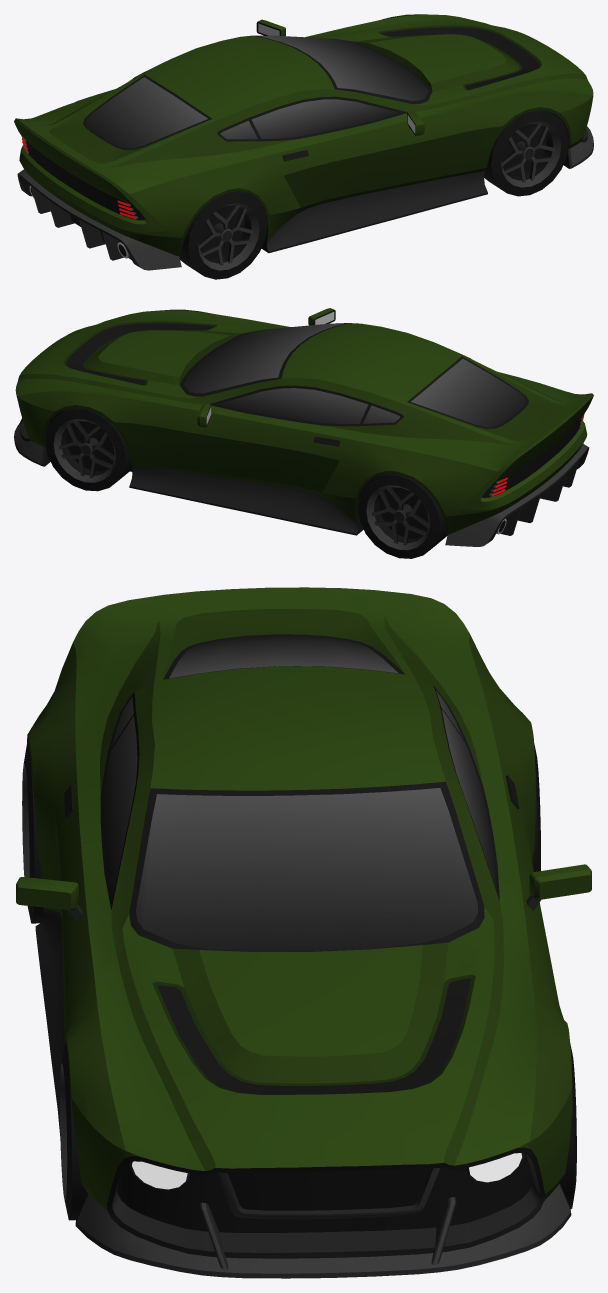
Rendered from Car_091.glb.
3 views of the same model, one above another, from view 1: azimuth 30°, elevation 25°; view 2: azimuth 150°, elevation 25°; view 3: azimuth 270°, elevation 25° (orthographic). The views are drawn at different scales.
Visible parts, largest first — view 1: Car_091, wheel_2_Car_091_Wheel_2R, wheel_1_Car_091_Wheel_1R; view 2: Car_091, wheel_3_Car_091_Wheel_3L, wheel_0_Car_091_Wheel_1L; view 3: Car_091, wheel_1_Car_091_Wheel_1R, wheel_2_Car_091_Wheel_2R, wheel_0_Car_091_Wheel_1L.
Part boxes in pixels (x1,y1,x2,y2): Car_091: (14,14,593,270); wheel_2_Car_091_Wheel_2R: (179,191,267,279); wheel_1_Car_091_Wheel_1R: (484,110,568,196); Car_091: (14,308,593,546); wheel_3_Car_091_Wheel_3L: (358,473,447,558); wheel_0_Car_091_Wheel_1L: (45,408,132,491); Car_091: (16,587,591,1278); wheel_1_Car_091_Wheel_1R: (60,1043,87,1220); wheel_2_Car_091_Wheel_2R: (22,743,43,923); wheel_0_Car_091_Wheel_1L: (560,1044,576,1208).
Bounding box in the file's own units: 4.66 × 1.22 × 2.27.
2 materials, 2 textured.
